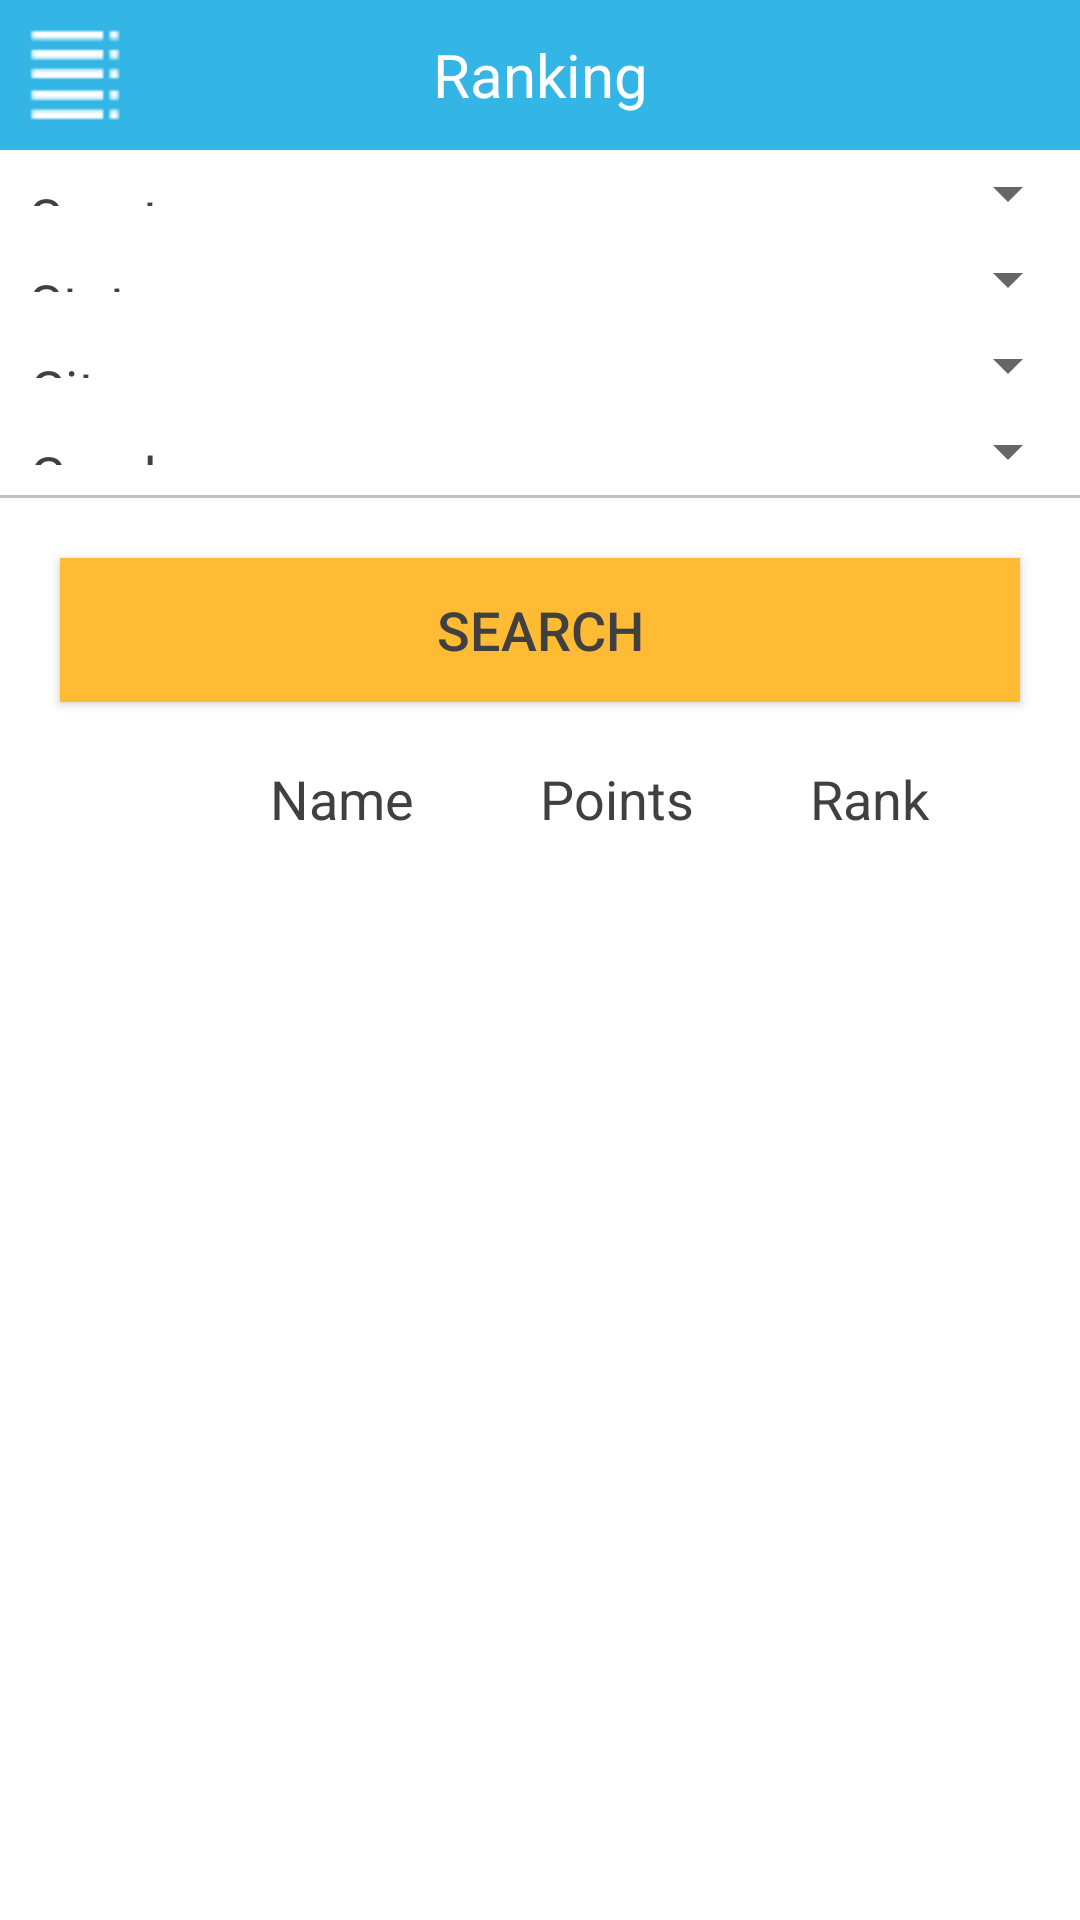

Icons on this 1080×1920 Android screen, each with its box as (x1, y1, x2, y2):
navigation: (30, 30, 120, 120)
